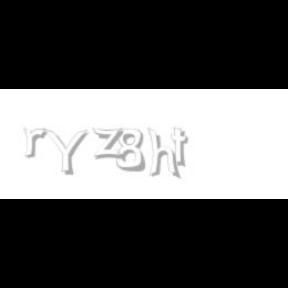8: (116, 128, 146, 172)
Y: (42, 128, 88, 176)
h: (148, 128, 182, 180)
r: (23, 128, 50, 158)
t: (171, 128, 193, 168)
z: (92, 128, 128, 160)
